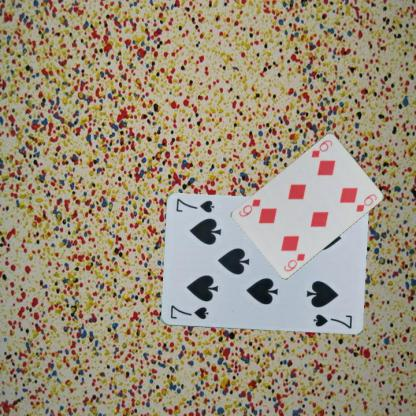6d: (308, 137, 334, 159), (281, 250, 306, 272)
7s: (168, 303, 210, 321)
